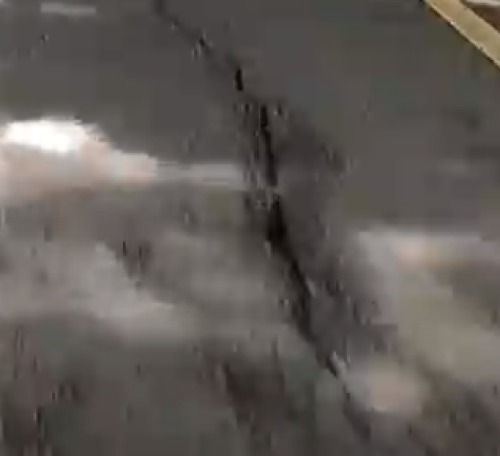Retak Memanjang: (216, 54, 353, 396)
